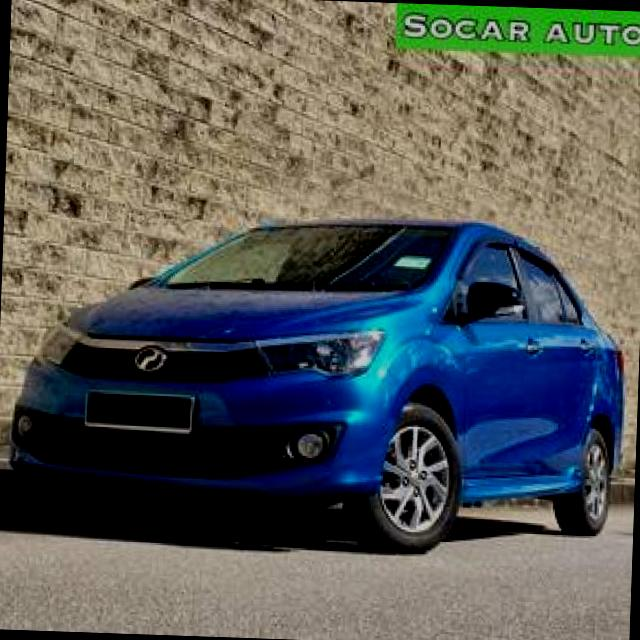PeroduaBezza: (6, 202, 630, 560)
